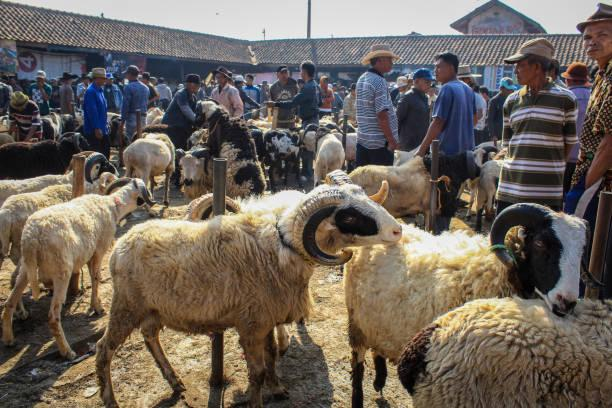Sheep: (479, 184, 594, 318), (281, 163, 403, 281), (103, 171, 162, 218), (73, 140, 120, 184), (173, 146, 214, 185), (191, 97, 231, 133)
